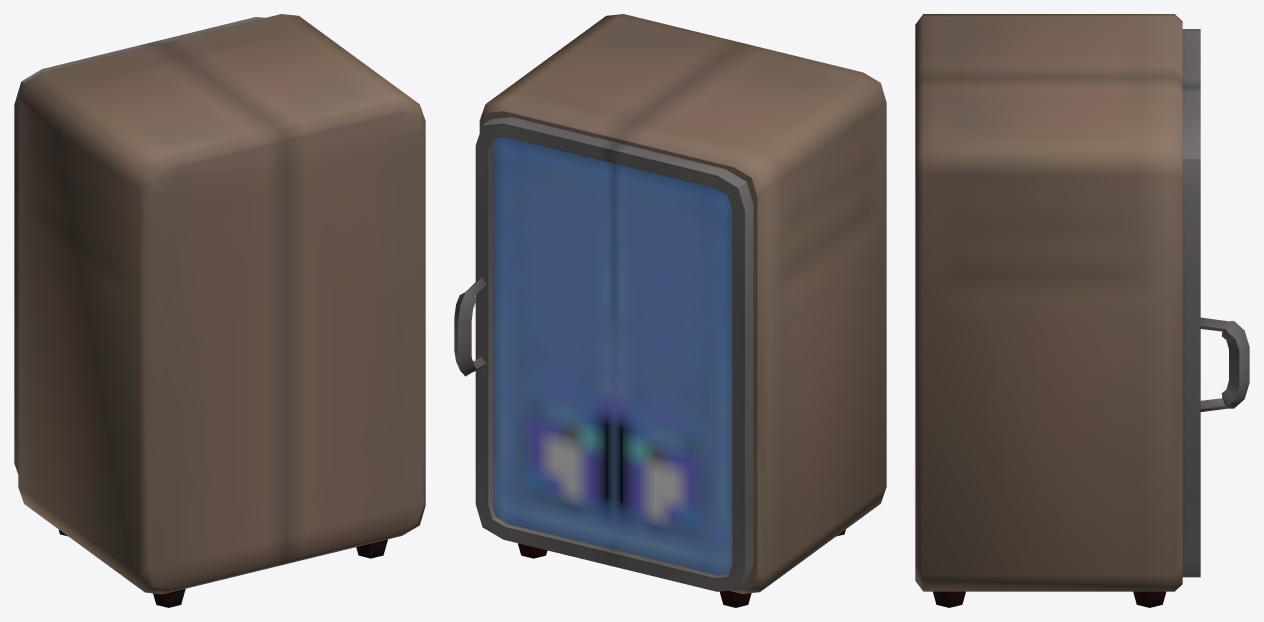
Rendered from Fridge_01.gltf.
3 views of the same model, side by side, from view 1: azimuth 30°, elevation 25°; view 2: azimuth 150°, elevation 25°; view 3: azimuth 270°, elevation 25° (orthographic). The views are drawn at different scales.
Parts seen in each view (by area): view 1: Fridge_01; view 2: Fridge_01; view 3: Fridge_01.
Part boxes in pixels (x1,y1,x2,y2): Fridge_01: [14, 14, 425, 607]; Fridge_01: [454, 14, 886, 607]; Fridge_01: [915, 14, 1249, 607].
Bounding box in the file's own units: 25.6 × 38.81 × 24.85.
1 material, 1 textured.
